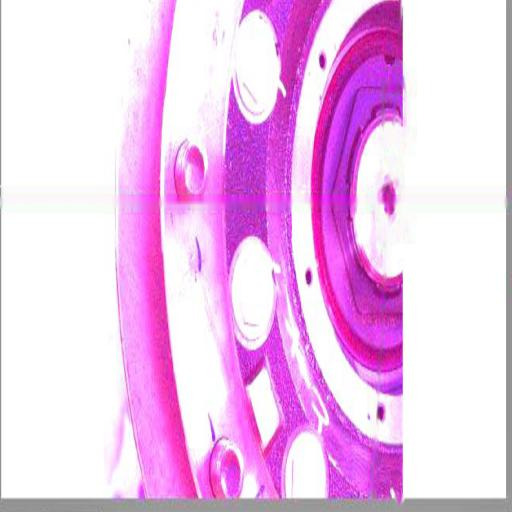center: (379, 186, 396, 216)
notch: (383, 52, 398, 76)
